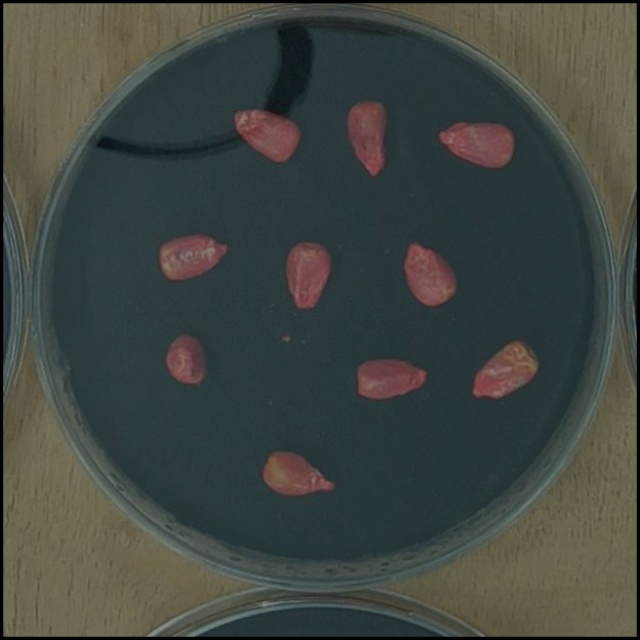Zea mays: (464, 330, 546, 405), (225, 100, 307, 167), (432, 114, 520, 175), (256, 441, 341, 503), (398, 234, 464, 313), (153, 226, 236, 288), (339, 94, 394, 185), (280, 233, 338, 315), (350, 350, 434, 406), (160, 324, 212, 390)
